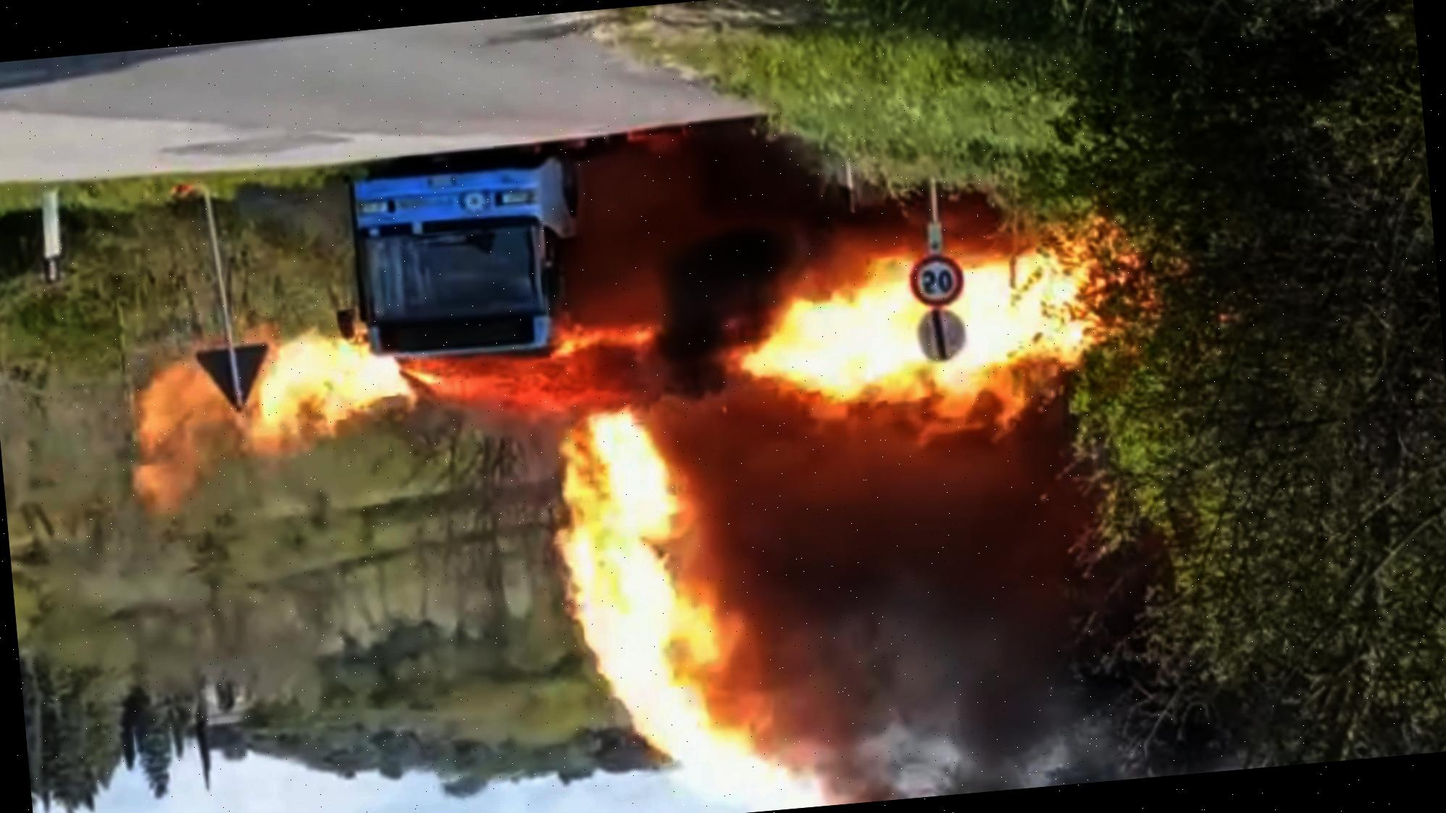fire: (690, 226, 1276, 414), (507, 406, 757, 787), (70, 309, 515, 487)
smoke: (735, 383, 1339, 811), (560, 106, 948, 297)
